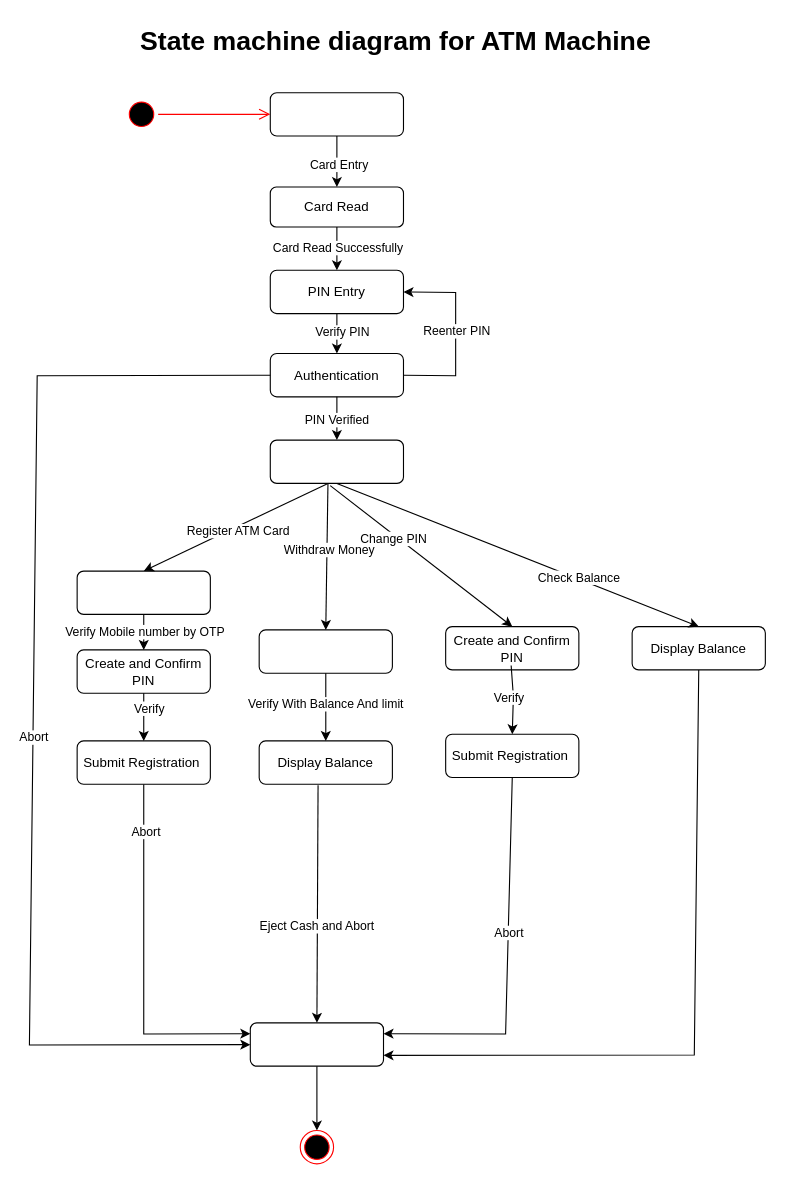
Image size: 785x1183. Some labels were removed from this diagram. The shapes that lost their labels are listed below. From the top down, each one's centre as x and y in pixels, then its label:
(336,114): ATM Idle
(336,461): Display Menu
(143,592): Enter Registered Mobile no
(325,651): Enter Cash
(316,1044): Returning Card
